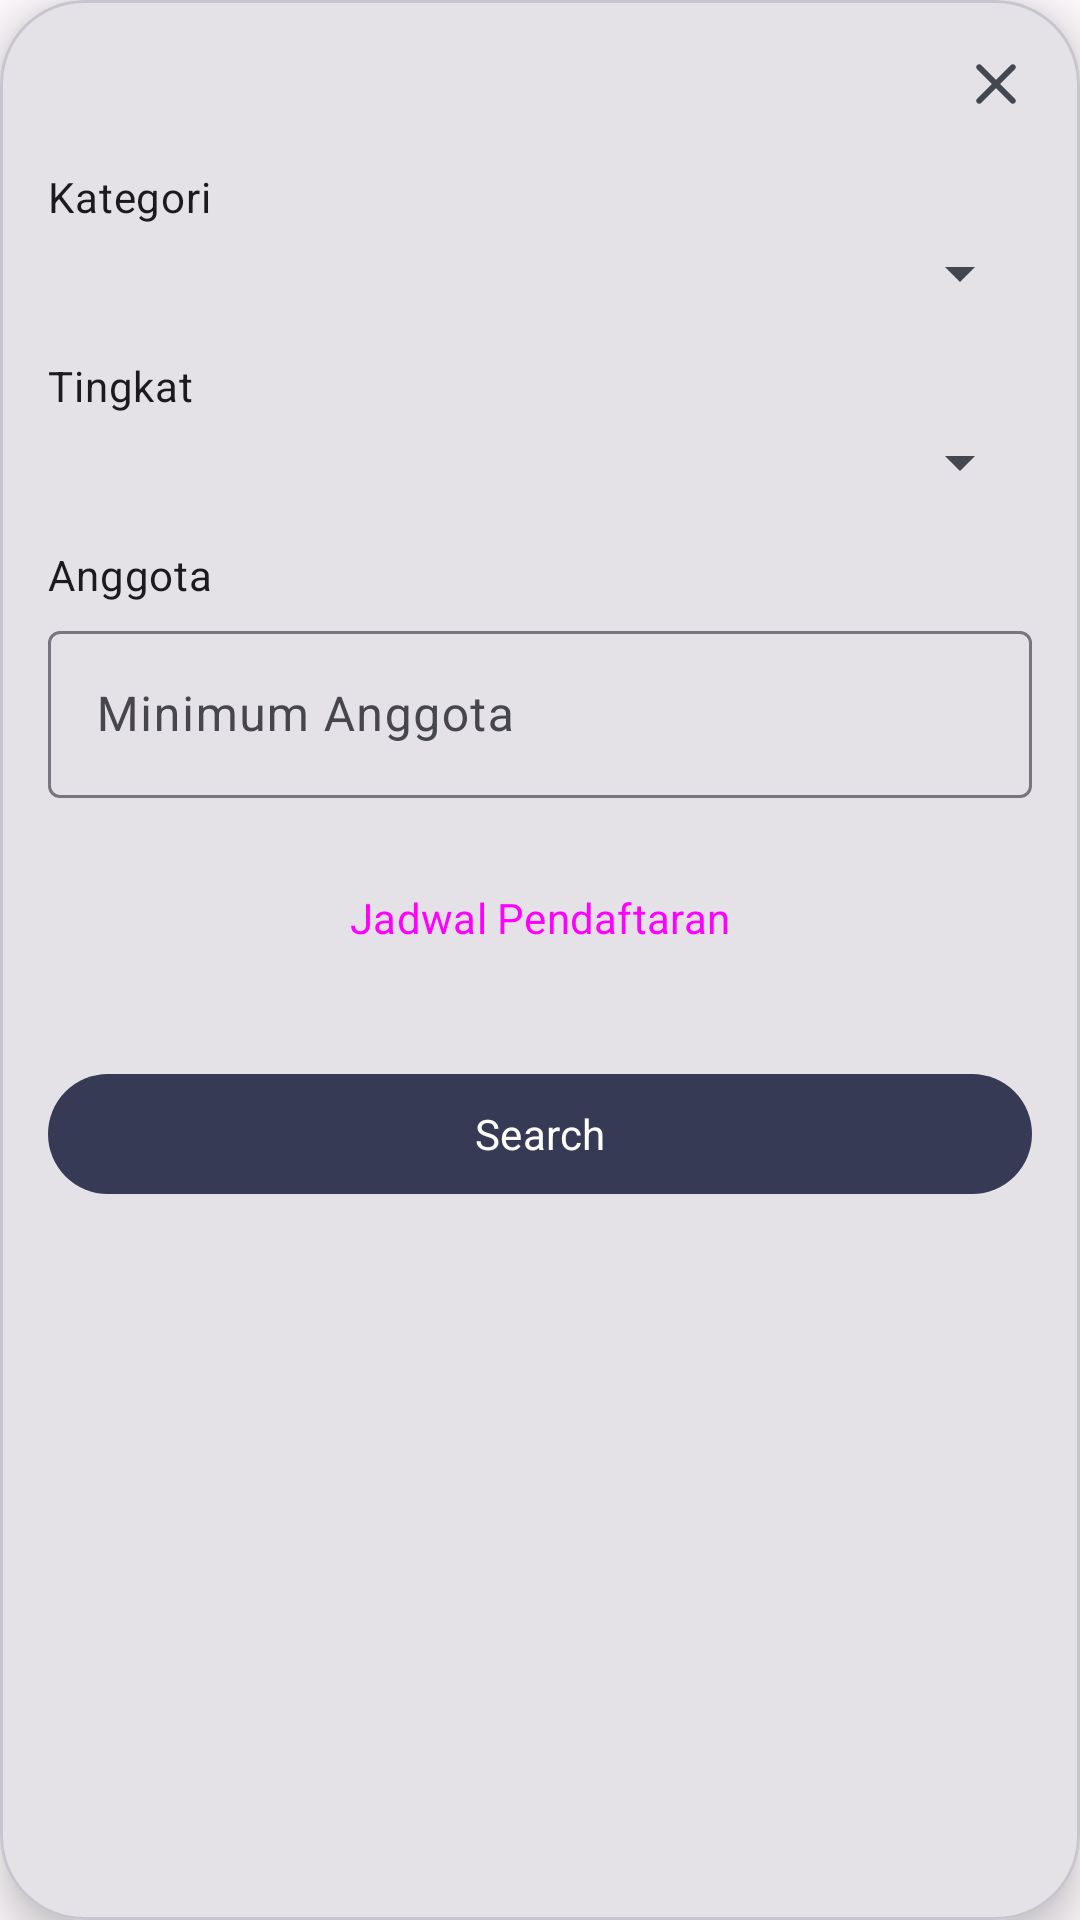

Where to tap for icons on this 1080w x 1920h app screen, as point (x, y):
Close Dialog: point (996, 84)
